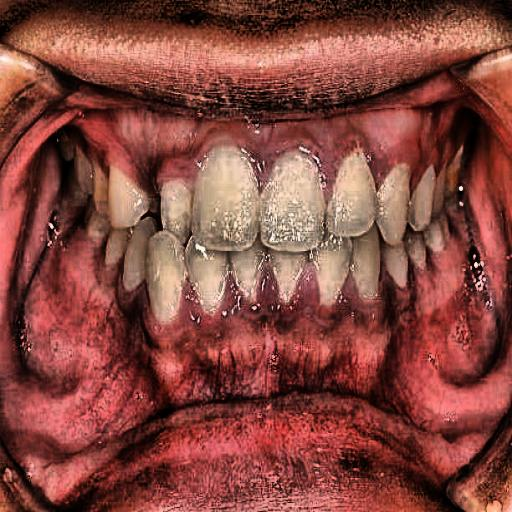Gingivitis: (80, 103, 234, 187), (246, 122, 380, 198), (362, 87, 448, 182)
